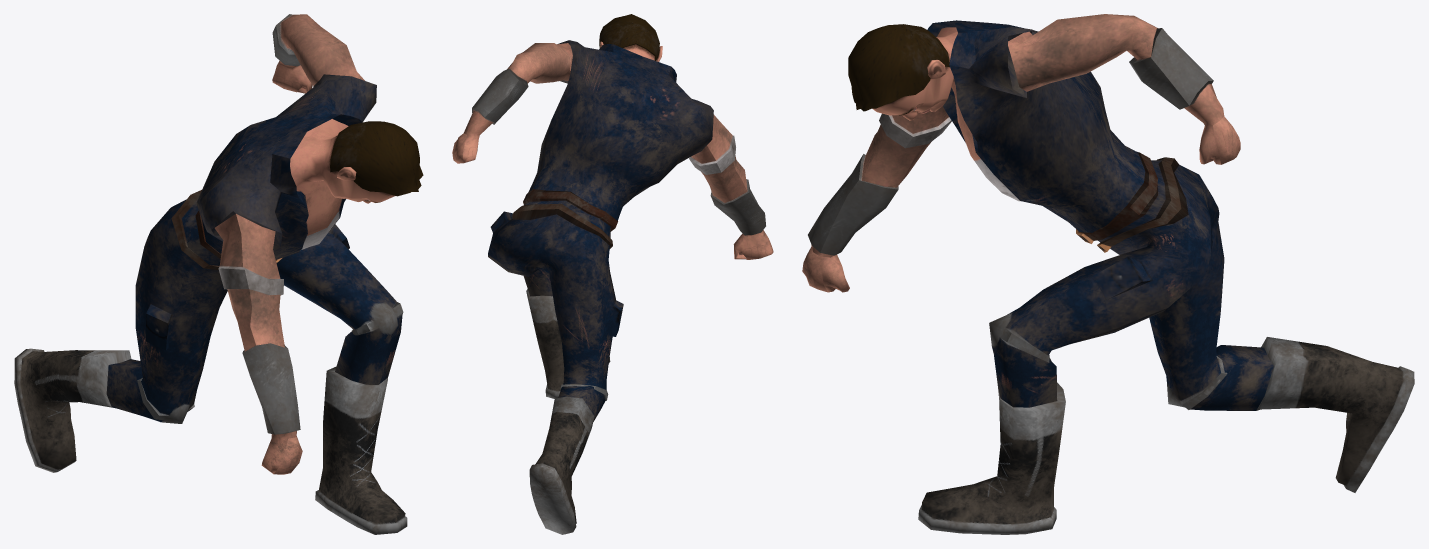
The model's file is Anim_especial_jugador.0029.obj.
3 renders of one model, left to right at view 1: azimuth 30°, elevation 25°; view 2: azimuth 150°, elevation 25°; view 3: azimuth 270°, elevation 25°, orthographic. The views are drawn at different scales.
Visible parts, largest first — view 1: polySurface1; view 2: polySurface1; view 3: polySurface1.
Boxes of the visible parts, x1,y1,x2,y2 form: polySurface1: [14, 14, 423, 534]; polySurface1: [452, 14, 773, 534]; polySurface1: [802, 14, 1414, 534].
Bounding box in the file's own units: 3.41 × 7.09 × 7.12.
